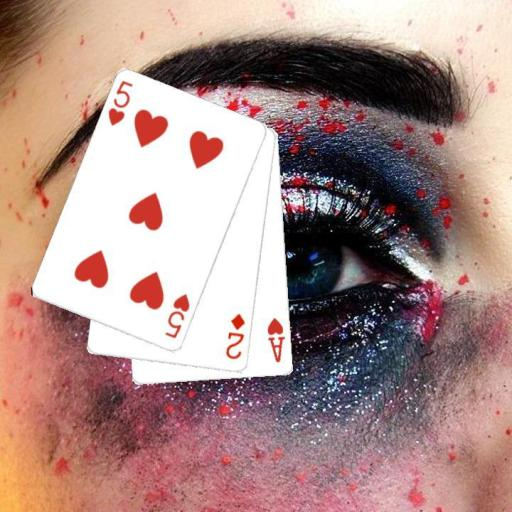2D: (223, 311, 247, 361)
5H: (161, 291, 192, 341), (105, 78, 135, 128)
AH: (265, 315, 287, 364)
